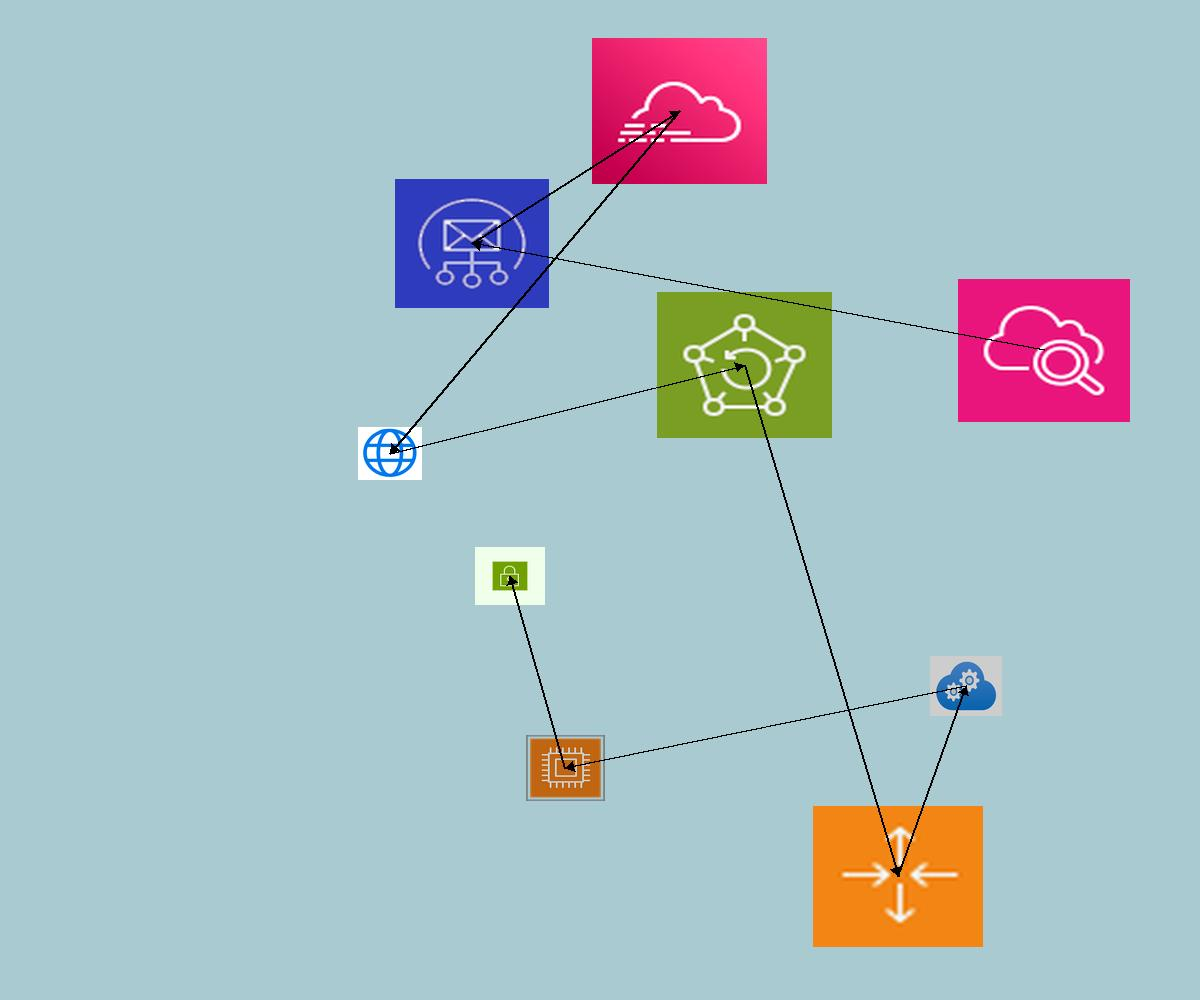AWS-Backup: (657, 292, 832, 438)
AWS-Category_Compute: (526, 735, 605, 801)
AWS-CloudTrail: (592, 38, 767, 184)
AWS-CloudWatch: (958, 279, 1130, 422)
AWS-Public-subnet: (475, 547, 545, 605)
AWS-Scaling-group: (813, 806, 983, 947)
AWS-Simple-Email-Service: (395, 179, 549, 308)
Azure_cloud_services: (930, 656, 1002, 716)
Azure_http: (358, 427, 422, 480)
